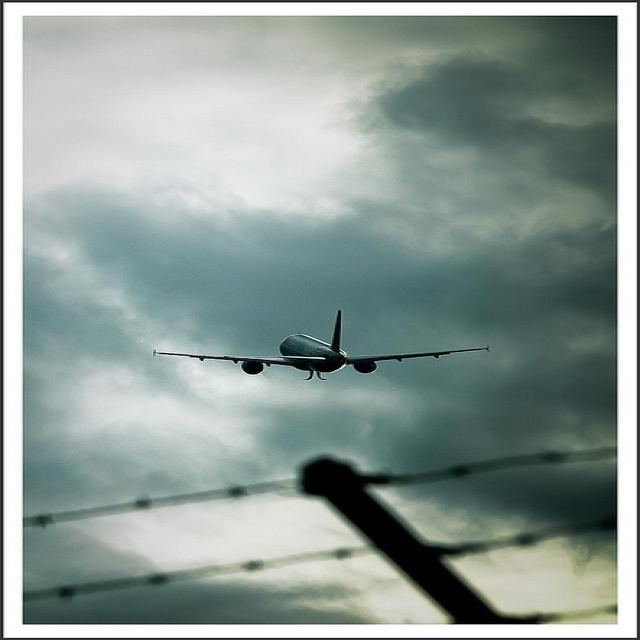airplane: (149, 306, 496, 384)
